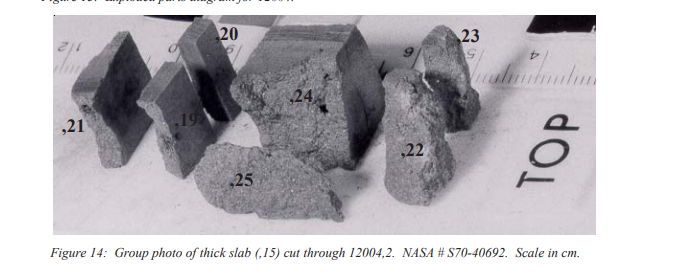Basalt: (377, 17, 480, 202), (260, 22, 363, 161), (417, 22, 485, 189), (64, 27, 136, 181), (191, 159, 348, 225), (142, 19, 213, 154)
